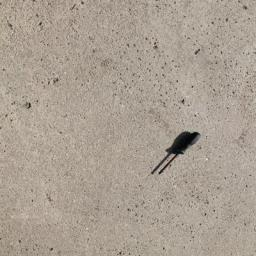FOD: (151, 127, 203, 178)
